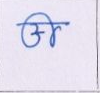i_matra: (39, 12, 60, 46)
